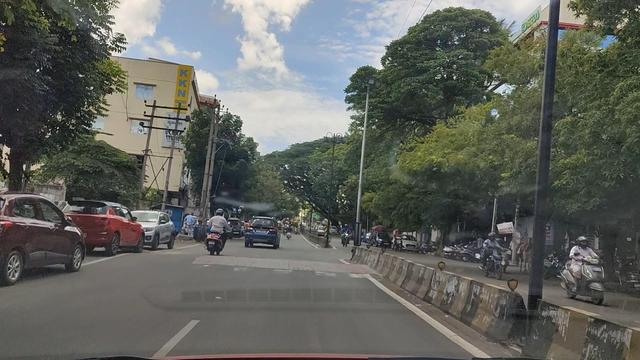LMV: (68, 201, 146, 251)
SpeedBump: (142, 249, 375, 284)
